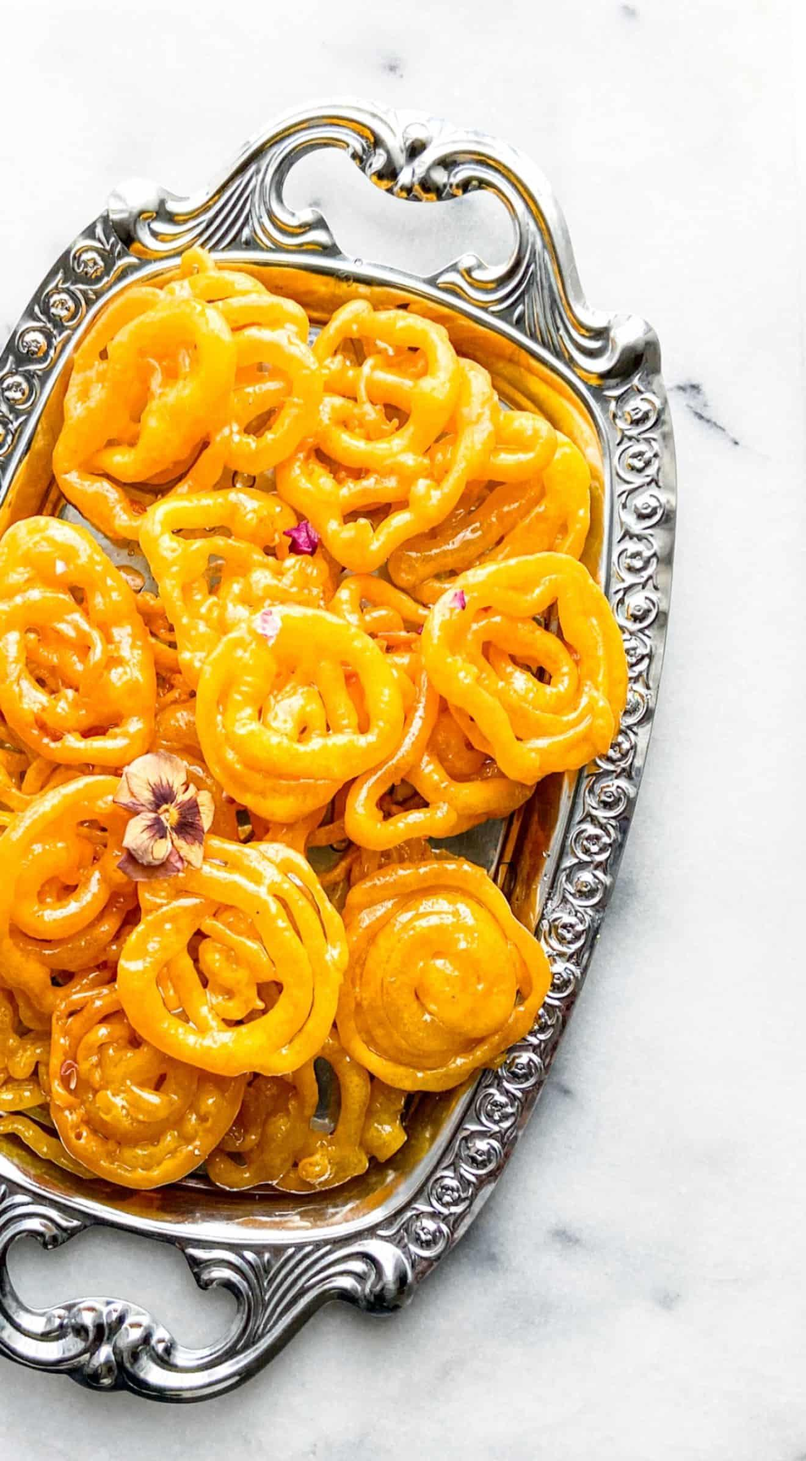jalebi: (18, 279, 519, 1224)
